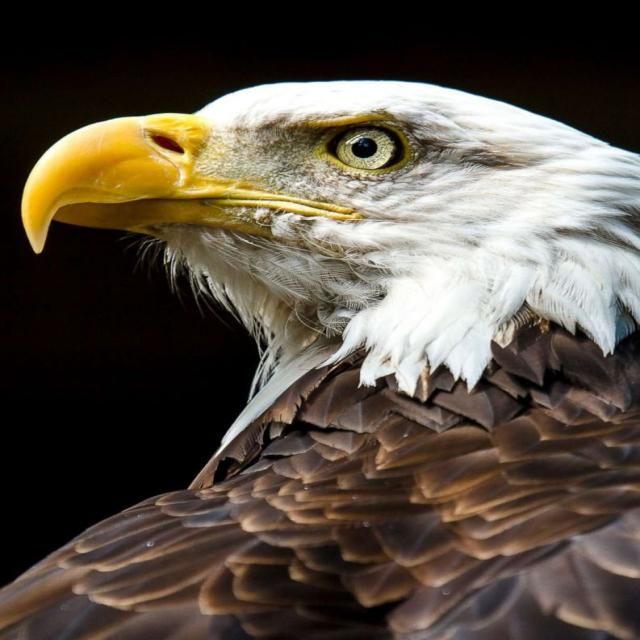Eagle: (19, 74, 640, 640)
